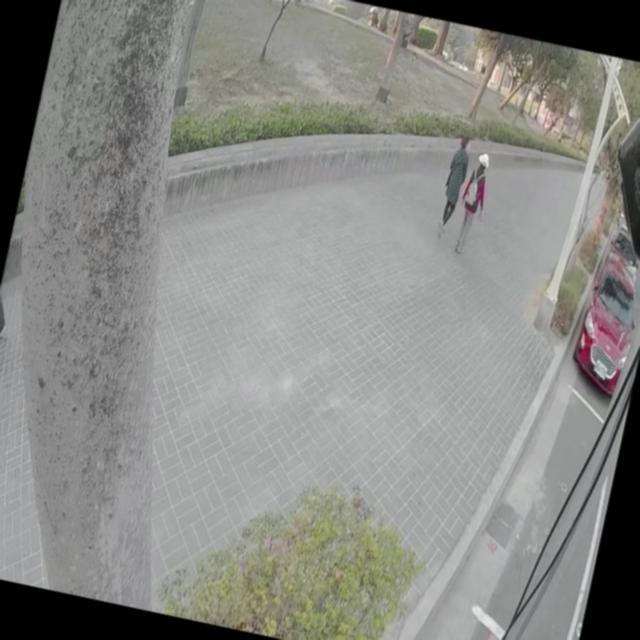person: (449, 150, 494, 258), (433, 132, 472, 236)
